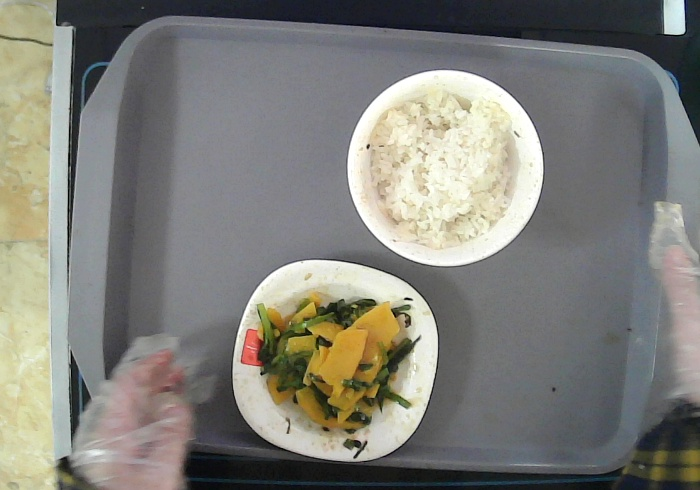SHKJ-Bai_Se_Si_Fang_Cai_Die: (233, 259, 439, 461)
SHKJ-Fan_Wan: (346, 69, 545, 267)
